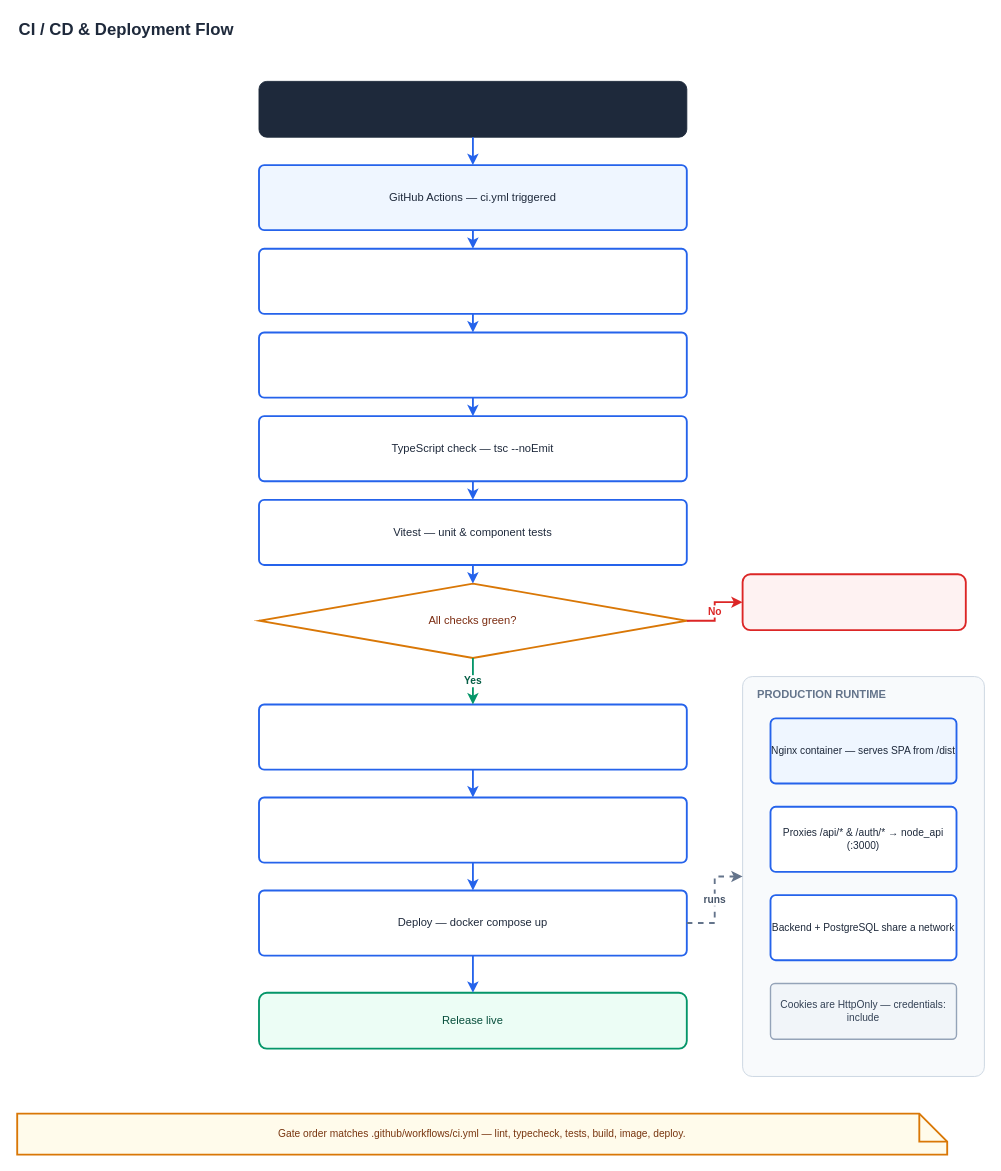
The diagram is 1001 pixels wide and 1171 high, and some of its shapes have lost their labels. Here are the shapes that lost their labels. From the top down, the centre of each, then its label:
At (x=472, y=108): "Developer pushes / merges to main".
At (x=472, y=280): "npm ci — clean install".
At (x=472, y=364): "ESLint — code style & errors".
At (x=853, y=602): "Abort — nothing ships".
At (x=472, y=736): "vite build → dist/".
At (x=472, y=829): "Docker build — multi-stage (Node → Nginx)".
